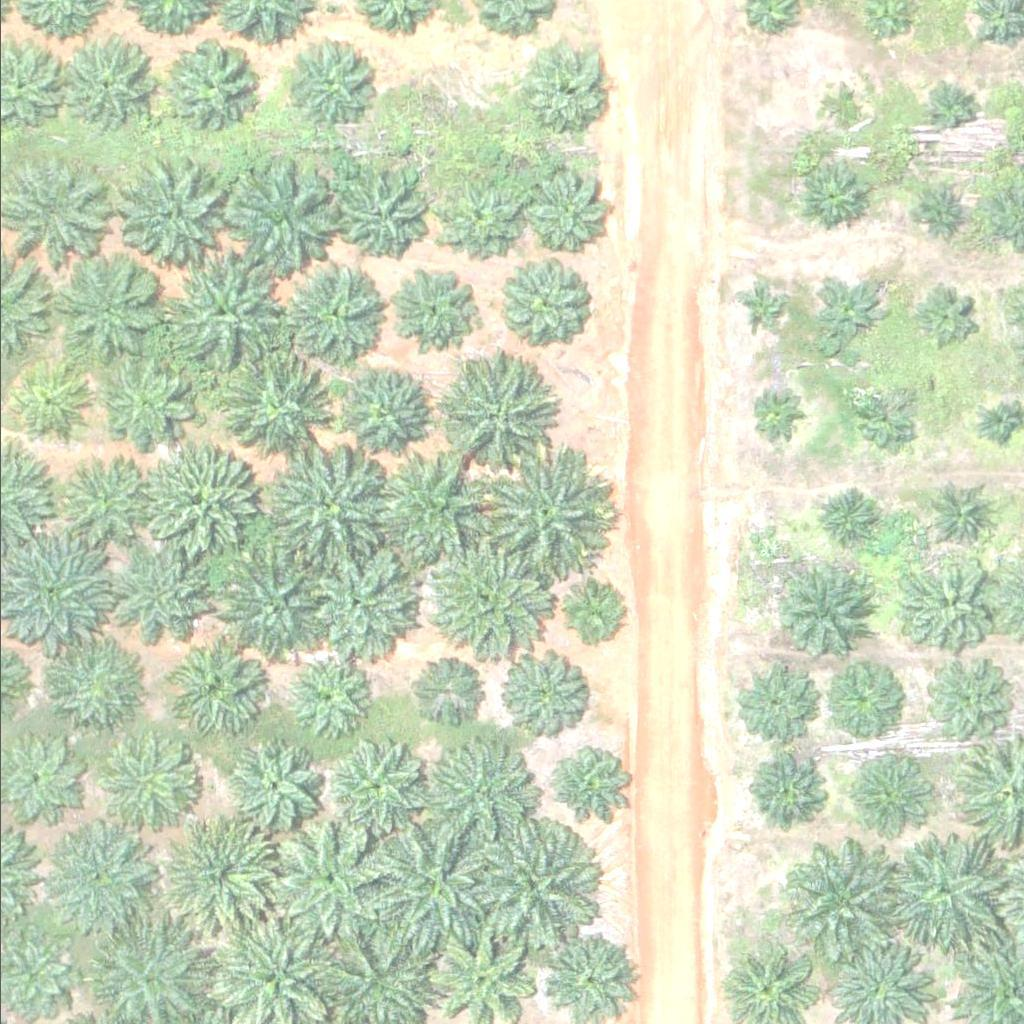Kelapa_Sawit: (469, 821, 595, 946), (474, 451, 600, 576), (376, 825, 501, 950), (159, 815, 273, 928), (431, 551, 545, 664), (218, 347, 332, 460), (275, 826, 388, 939), (427, 740, 540, 853), (369, 454, 482, 567), (268, 445, 381, 558), (148, 442, 261, 555), (88, 340, 201, 453), (790, 842, 903, 955), (53, 252, 167, 364), (221, 158, 335, 270), (37, 817, 150, 929), (217, 551, 330, 663), (304, 546, 417, 658), (163, 257, 276, 369), (890, 833, 1003, 945), (122, 549, 223, 649), (338, 369, 439, 469), (494, 253, 595, 353), (2, 153, 103, 253), (274, 29, 375, 129), (53, 34, 154, 134), (771, 558, 872, 658), (161, 638, 261, 738), (441, 364, 541, 464), (285, 266, 385, 366), (116, 157, 216, 257), (332, 162, 432, 262), (160, 38, 260, 138), (494, 648, 583, 736), (5, 359, 93, 447), (337, 739, 425, 827), (283, 649, 371, 737), (59, 448, 147, 536), (391, 260, 479, 348), (522, 42, 610, 130), (899, 561, 987, 649), (541, 740, 629, 827), (107, 742, 195, 829), (233, 741, 321, 828), (52, 643, 140, 730), (436, 180, 524, 267), (519, 168, 607, 255), (846, 747, 934, 834), (402, 650, 478, 725), (742, 755, 818, 830), (920, 663, 996, 738), (738, 666, 814, 741), (795, 158, 870, 233), (813, 274, 888, 349), (4, 939, 79, 1014), (828, 663, 891, 726), (810, 487, 873, 550), (563, 584, 626, 647), (855, 382, 918, 445), (913, 290, 976, 352), (745, 388, 796, 438), (916, 192, 967, 242), (736, 281, 787, 331), (930, 79, 981, 129), (938, 490, 988, 540), (815, 83, 865, 133), (977, 403, 1015, 440)
